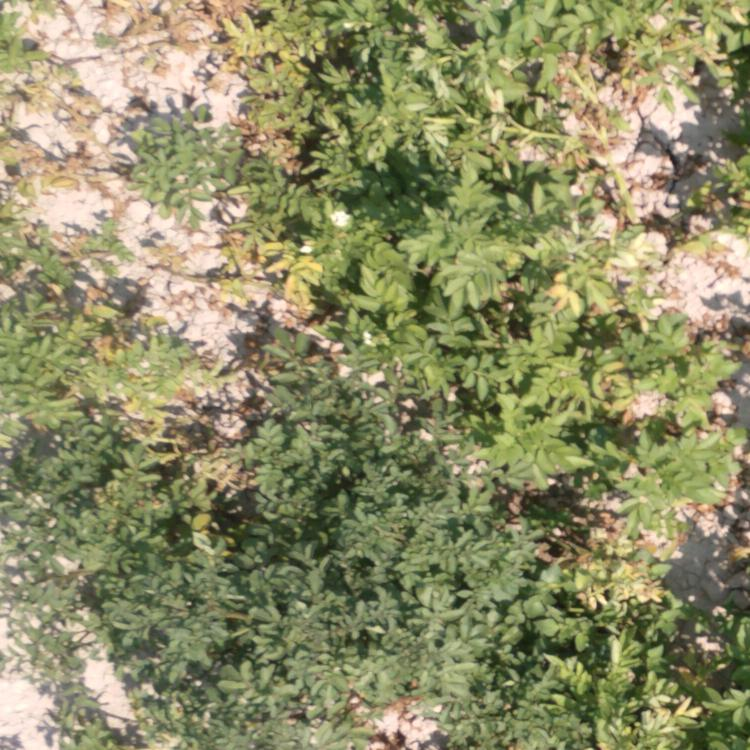healthy: (133, 539, 508, 745), (472, 360, 730, 540), (522, 548, 750, 745), (366, 2, 631, 163), (1, 428, 128, 747), (401, 157, 599, 348), (259, 361, 454, 532), (629, 1, 745, 77), (134, 108, 207, 215), (681, 157, 750, 233), (629, 302, 725, 347)
stressed: (207, 160, 381, 350), (1, 236, 136, 425), (213, 1, 361, 157), (142, 349, 245, 528), (1, 1, 76, 233)
